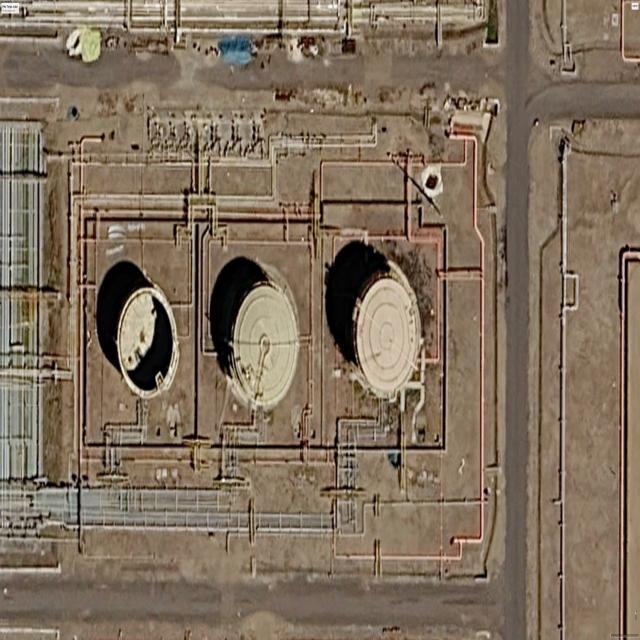Oil Rafinery: (226, 280, 299, 410), (352, 274, 421, 396), (115, 281, 179, 399)
